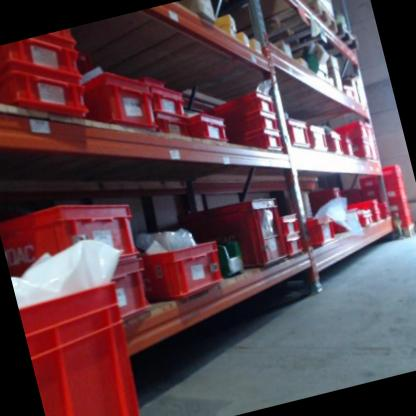pallet: (228, 0, 338, 69), (279, 18, 365, 75), (401, 220, 416, 240)
small_load_carrier: (21, 283, 150, 416), (0, 184, 142, 281), (181, 194, 291, 286), (70, 59, 162, 157), (0, 52, 92, 139), (138, 232, 232, 306), (0, 28, 87, 105), (97, 257, 160, 330), (209, 86, 278, 129), (143, 73, 191, 122), (185, 107, 233, 153), (236, 125, 286, 162), (229, 107, 279, 141), (150, 107, 193, 145), (324, 116, 373, 149), (281, 111, 313, 154), (303, 211, 342, 245), (347, 132, 381, 171), (305, 121, 332, 157), (45, 28, 82, 52), (278, 210, 306, 238), (283, 232, 309, 257), (348, 197, 378, 217), (325, 128, 343, 158), (377, 166, 404, 185), (388, 199, 412, 217), (391, 212, 415, 230), (384, 187, 409, 204), (358, 172, 379, 192), (340, 139, 356, 161), (381, 180, 405, 193), (363, 187, 384, 201), (376, 202, 393, 218), (356, 211, 373, 226), (365, 207, 375, 223), (372, 209, 382, 219)
